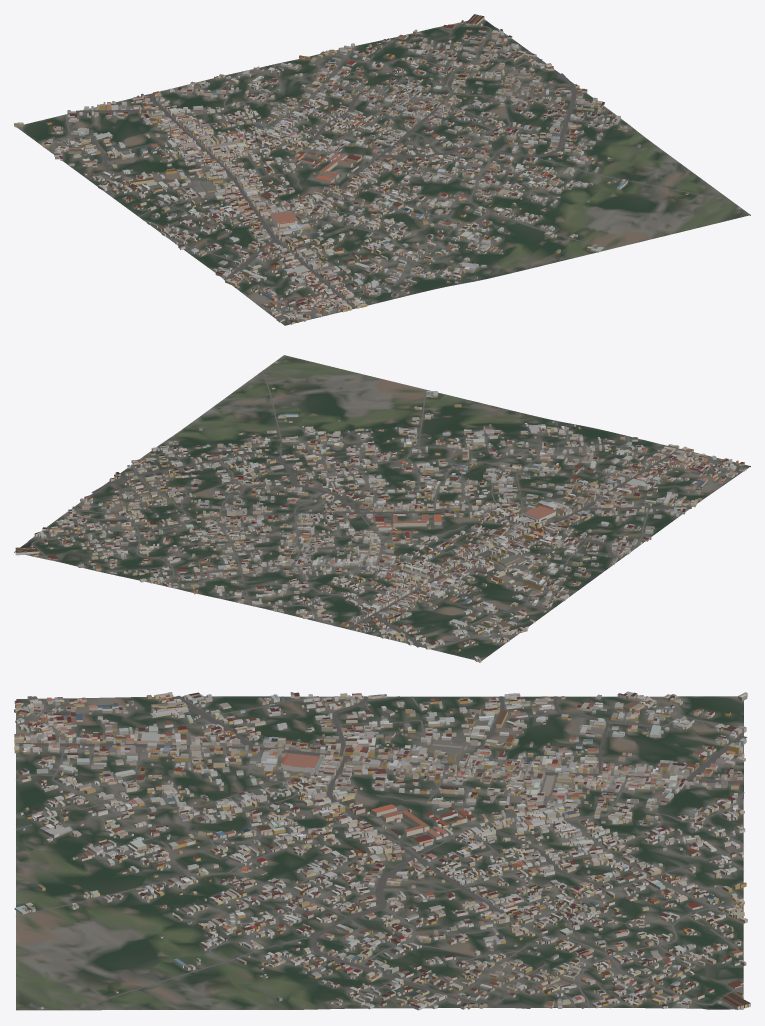
The picture shows the model from 3 angles, top to bottom: view 1: azimuth 30°, elevation 25°; view 2: azimuth 150°, elevation 25°; view 3: azimuth 270°, elevation 25°; orthographic projection. The views are drawn at different scales.
Parts seen in each view (by area): view 1: ground, buildings, roads; view 2: ground, buildings, roads; view 3: ground, buildings, roads.
Part boxes in pixels (bbox=[...]): ground: bbox=[15, 19, 750, 325]; buildings: bbox=[14, 14, 740, 324]; roads: bbox=[51, 25, 729, 318]; ground: bbox=[14, 355, 750, 660]; buildings: bbox=[15, 361, 746, 662]; roads: bbox=[31, 370, 740, 649]; ground: bbox=[16, 696, 743, 1010]; buildings: bbox=[14, 691, 750, 1010]; roads: bbox=[16, 695, 747, 1010].
Size of the model in its own units: 1419 by 30.45 by 1418.
